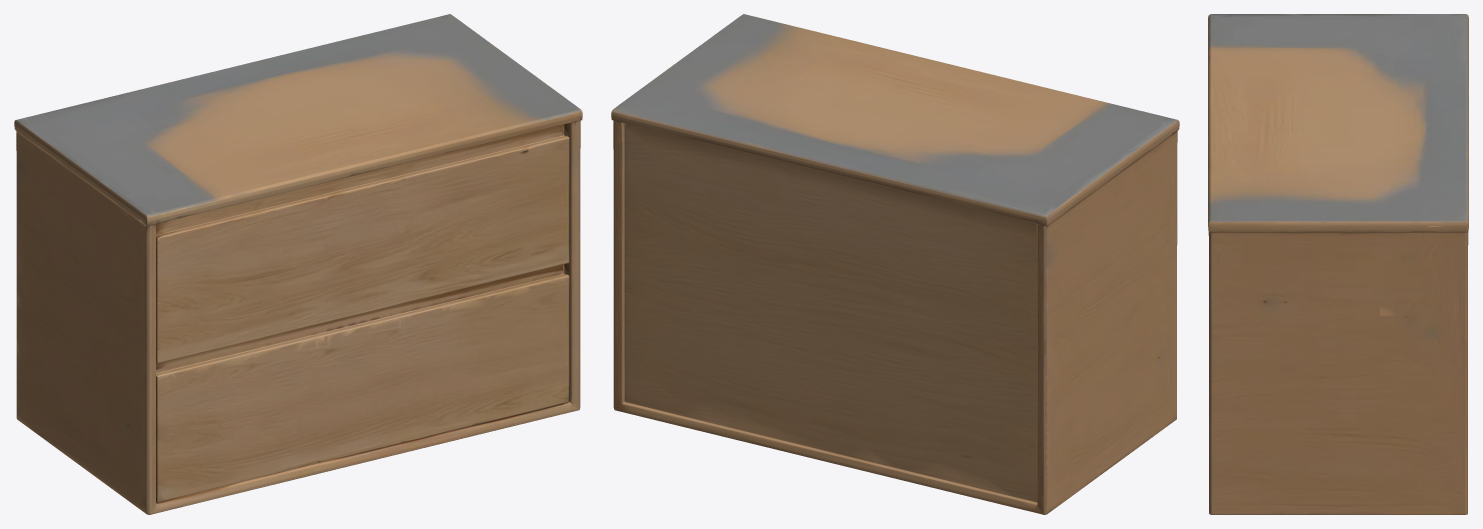
3 views of the same model, side by side, from view 1: azimuth 30°, elevation 25°; view 2: azimuth 150°, elevation 25°; view 3: azimuth 270°, elevation 25° (orthographic). The views are drawn at different scales.
Visible parts, largest first — view 1: material; view 2: material; view 3: material.
Boxes of the visible parts, left/top/right/bottom form: material: left=14, top=14, right=582, bottom=514; material: left=611, top=14, right=1179, bottom=514; material: left=1208, top=14, right=1468, bottom=514.
Size of the model in its own units: 0.9216 by 0.6064 by 0.4871.
1 material, 1 textured.
